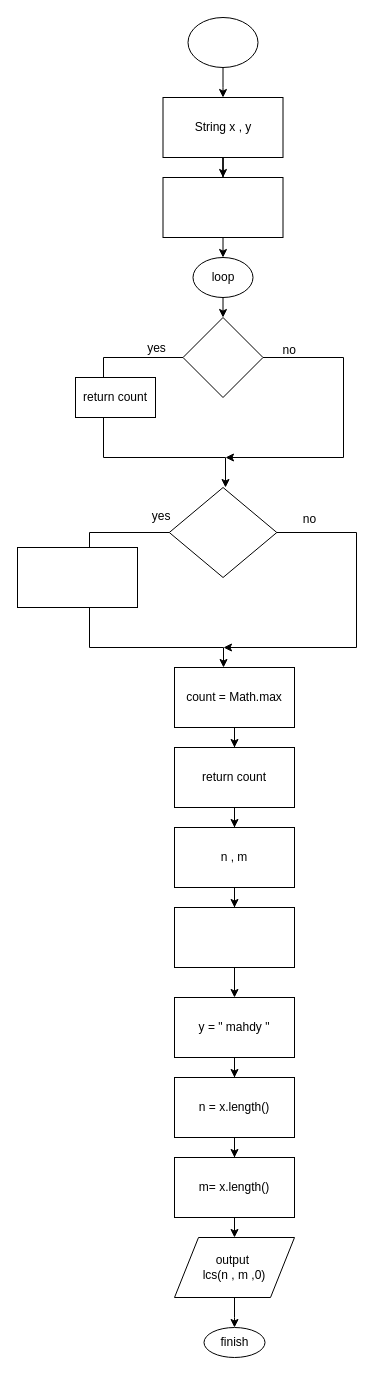
Some shapes in this 382 by 1375 pixel diagram are drawn without their labels. The centre of each missing label's shape, as x and y in pixels:
a==0||b==0: (x=222, y=357)
count=lcs (a-1, b-1, count + 1): (x=77, y=577)
lcs ( a , b , count: (x=222, y=207)
start: (x=222, y=42)
x = " raihan ": (x=234, y=937)
x.charAt(a-1)== y.charAt(b-1): (x=222, y=532)
